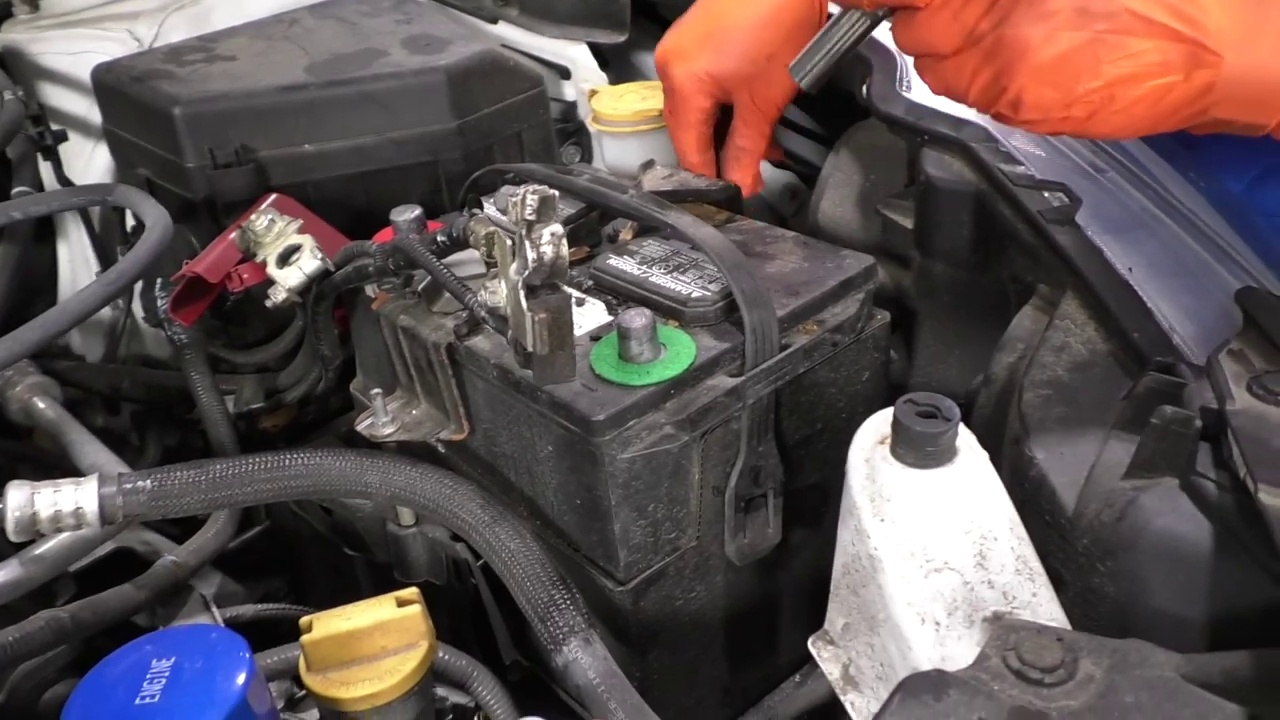battery: (344, 158, 884, 414)
neg_disconnected: (563, 271, 706, 408)
pos_disconnected: (192, 158, 466, 323)
